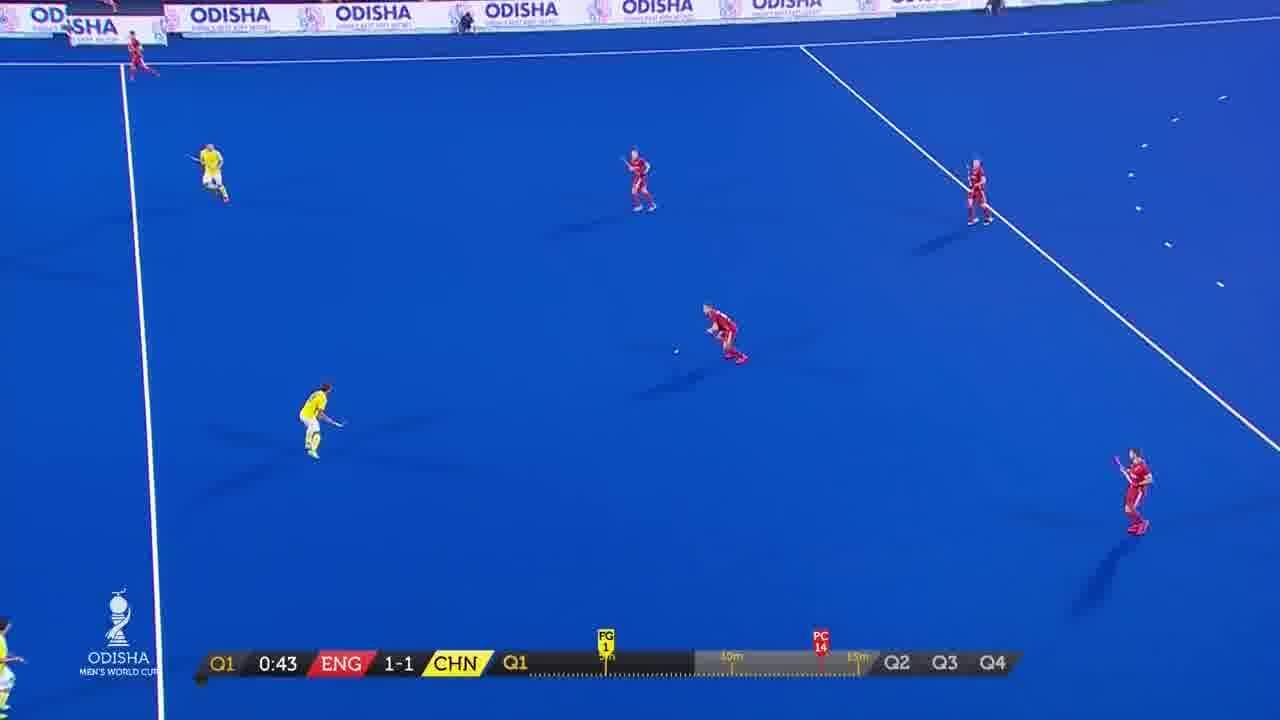ball: (669, 345, 684, 358)
